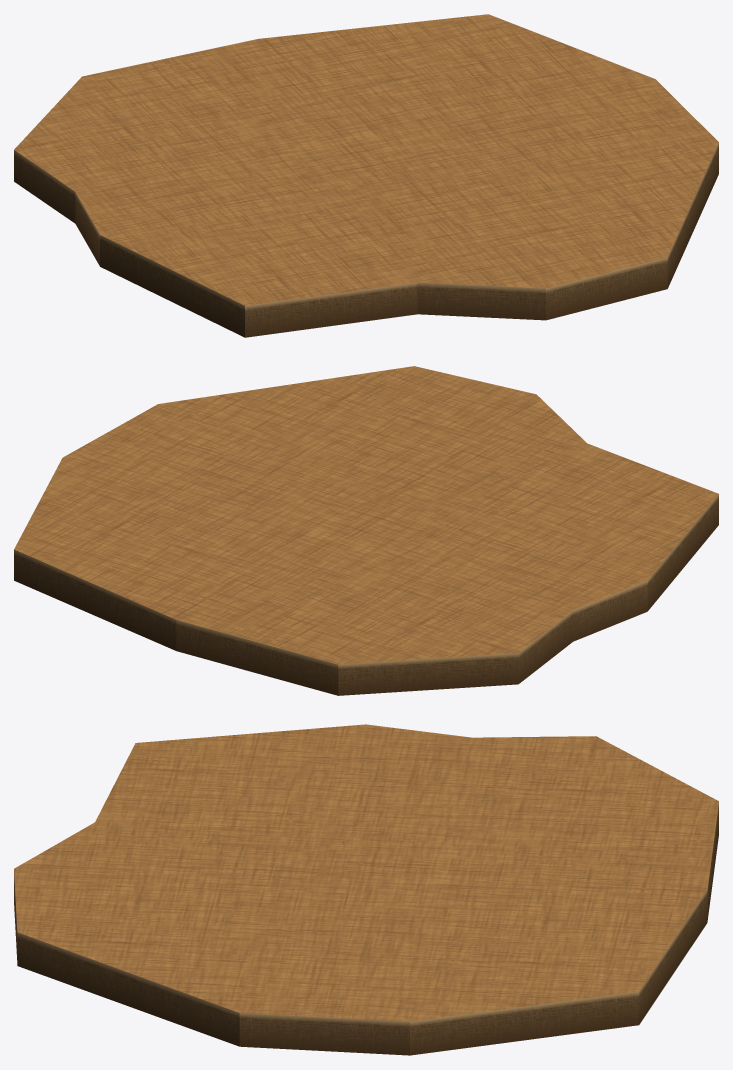
Rendered from Terrain01_B.FBX.
3 renders of one model, top to bottom at view 1: azimuth 30°, elevation 25°; view 2: azimuth 150°, elevation 25°; view 3: azimuth 270°, elevation 25°, orthographic. The views are drawn at different scales.
Visible parts, largest first — view 1: Terrain01_B; view 2: Terrain01_B; view 3: Terrain01_B.
Boxes of the visible parts, x1=… form: Terrain01_B: x1=14, y1=14, x2=718, y2=337; Terrain01_B: x1=14, y1=366, x2=718, y2=695; Terrain01_B: x1=14, y1=724, x2=718, y2=1055.
Bounding box in the file's own units: 950 × 50.17 × 951.
Materials: 1 (1 with a texture image).
